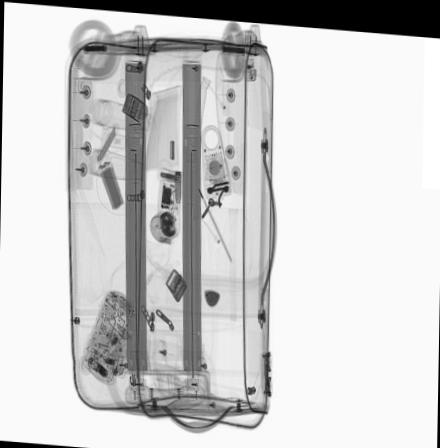Lighter: (225, 58, 257, 78)
